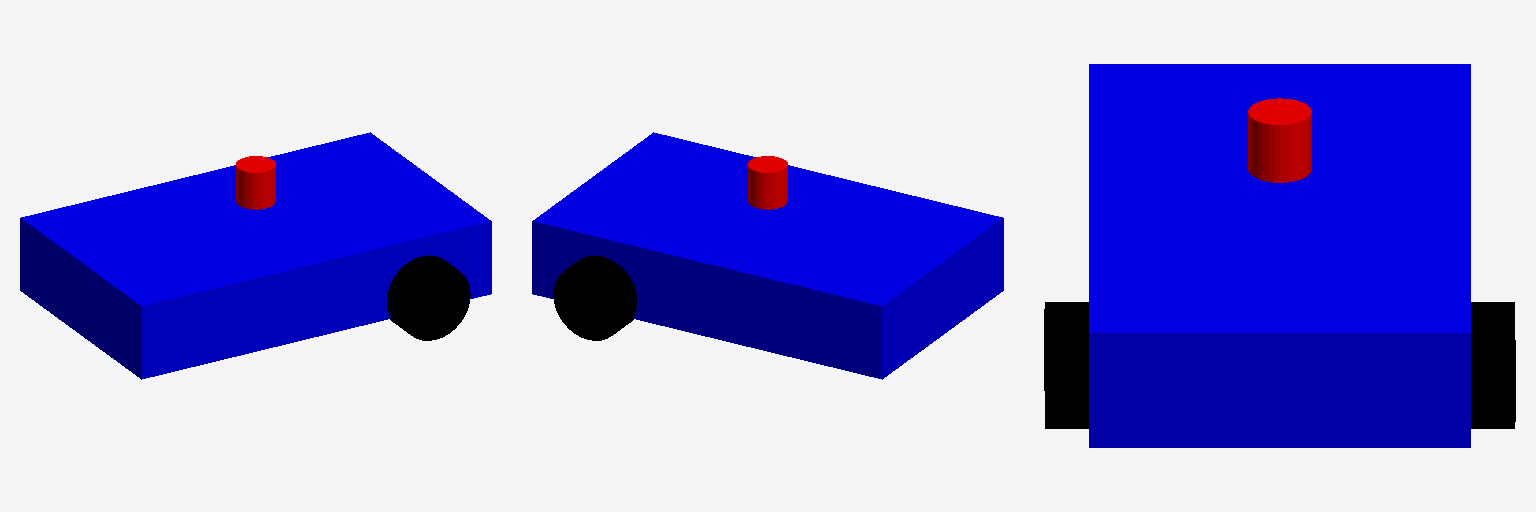
robot.urdf — robot:
<?xml version="1.0"?>
<robot name="robot">

    <!-- Dummy Link -->
    <link name="dummy_link"/>

    <!-- Base Link -->
    <link name="base_link">
        <inertial>
            <mass value="5.0"/>
            <inertia ixx="0.1" ixy="0.0" ixz="0.0" iyy="0.1" iyz="0.0" izz="0.1"/>
        </inertial>
        <visual>
            <geometry>
                <box size="0.5 0.3 0.1"/>
            </geometry>
            <material name="blue">
                <color rgba="0 0 1 1"/>
            </material>
        </visual>
        <collision>
            <geometry>
                <box size="0.5 0.3 0.1"/>
            </geometry>
        </collision>
    </link>

    <!-- Joint between the dummy link and the base link -->
    <joint name="base_to_dummy" type="fixed">
        <parent link="dummy_link"/>
        <child link="base_link"/>
        <origin xyz="0 0 0" rpy="0 0 0"/>
    </joint>

    <!-- Left Wheel -->
    <link name="left_wheel">
        <inertial>
            <mass value="0.5"/>
            <inertia ixx="0.01" ixy="0.0" ixz="0.0" iyy="0.01" iyz="0.0" izz="0.01"/>
        </inertial>
        <visual>
            <geometry>
                <cylinder length="0.05" radius="0.05"/>
            </geometry>
            <material name="black">
                <color rgba="0 0 0 1"/>
            </material>
        </visual>
        <collision>
            <geometry>
                <cylinder length="0.05" radius="0.05"/>
            </geometry>
        </collision>
    </link>

    <joint name="left_wheel_joint" type="continuous">
        <parent link="base_link"/>
        <child link="left_wheel"/>
        <origin xyz="0.15 0.16 -0.025" rpy="0 1.57 1.57"/>  
        <axis xyz="0 0 1"/>  
    </joint>

    <!-- Right Wheel -->
    <link name="right_wheel">
        <inertial>
            <mass value="0.5"/>
            <inertia ixx="0.01" ixy="0.0" ixz="0.0" iyy="0.01" iyz="0.0" izz="0.01"/>
        </inertial>
        <visual>
            <geometry>
                <cylinder length="0.05" radius="0.05"/>
            </geometry>
            <material name="black">
                <color rgba="0 0 0 1"/>
            </material>
        </visual>
        <collision>
            <geometry>
                <cylinder length="0.05" radius="0.05"/>
            </geometry>
        </collision>
    </link>

    <joint name="right_wheel_joint" type="continuous">
        <parent link="base_link"/>
        <child link="right_wheel"/>
        <origin xyz="0.15 -0.16 -0.025" rpy="0 1.57 1.57"/>  
        <axis xyz="0 0 1"/>  
    </joint>

    <!-- Caster Wheel -->
    <link name="caster_wheel">
        <inertial>
            <mass value="0.1"/>
            <inertia ixx="0.001" ixy="0.0" ixz="0.0" iyy="0.001" iyz="0.0" izz="0.001"/>
        </inertial>
        <visual>
            <geometry>
                <sphere radius="0.03"/>
            </geometry>
            <material name="grey">
                <color rgba="0.5 0.5 0.5 1"/>
            </material>
        </visual>
        <collision>
            <geometry>
                <sphere radius="0.03"/>
            </geometry>
        </collision>
    </link>

    <joint name="caster_joint" type="fixed">
        <parent link="base_link"/>
        <child link="caster_wheel"/>
        <origin xyz="-0.2 0 -0.05" rpy="0 0 0"/>
    </joint>

    <!-- LiDAR Sensor -->
    <link name="lidar">
        <inertial>
            <mass value="0.1"/>
            <inertia ixx="0.001" ixy="0.0" ixz="0.0" iyy="0.001" iyz="0.0" izz="0.001"/>
        </inertial>
        <visual>
            <geometry>
                <cylinder length="0.05" radius="0.025"/>
            </geometry>
            <material name="red">
                <color rgba="1 0 0 1"/>
            </material>
        </visual>
        <collision>
            <geometry>
                <cylinder length="0.05" radius="0.025"/>
            </geometry>
        </collision>
    </link>

    <joint name="lidar_joint" type="fixed">
        <parent link="base_link"/>
        <child link="lidar"/>
        <origin xyz="0 0 0.1" rpy="0 0 0"/>
    </joint>

    <!-- LiDAR Sensor Plugin -->
    <gazebo reference="lidar">
        <sensor type="ray" name="lidar_sensor">
            <pose>0 0 0 0 0 0</pose>
            <visualize>true</visualize>
            <update_rate>20</update_rate>
            <ray>
                <scan>
                    <horizontal>
                        <samples>720</samples>
                        <resolution>1</resolution>
                        <min_angle>-3.14159</min_angle>  <!-- -90 degrees -->
                        <max_angle>3.14159</max_angle>   <!-- 90 degrees -->
                    </horizontal>
                </scan>
                <range>
                    <min>0.1</min>
                    <max>10.0</max>
                    <resolution>0.01</resolution>
                </range>
                <noise>
                    <type>gaussian</type>
                    <mean>0.0</mean>
                    <stddev>0.01</stddev>
                </noise>
            </ray>
            <plugin name="gazebo_ros_lidar_plugin" filename="libgazebo_ros_laser.so">
                <topicName>/scan</topicName>
                <frameName>lidar</frameName>
            </plugin>
        </sensor>
    </gazebo>

    <gazebo reference="left_wheel">
        <material>Gazebo/Blue</material>
    </gazebo>

    <gazebo reference="right_wheel">
        <material>Gazebo/Blue</material>
    </gazebo>

    <!-- Differential Drive Plugin -->
    <gazebo>
        <plugin filename="libgazebo_ros_diff_drive.so" name="differential_drive_controller">
            <alwaysOn>true</alwaysOn>
            <updateRate>20</updateRate>
            <leftJoint>left_wheel_joint</leftJoint>
            <rightJoint>right_wheel_joint</rightJoint>
            <wheelSeparation>0.4</wheelSeparation>
            <wheelDiameter>0.2</wheelDiameter>
            <torque>0.1</torque>
            <commandTopic>cmd_vel</commandTopic>
            <odometryTopic>odom</odometryTopic>
            <odometryFrame>odom</odometryFrame>
            <robotBaseFrame>base_link</robotBaseFrame>
        </plugin>
    </gazebo>

</robot>

--- Render facts (derived) ---
Views: 3 orthographic renders of the robot side by side, from view 1: azimuth 30°, elevation 25°; view 2: azimuth 150°, elevation 25°; view 3: azimuth 270°, elevation 25°.
Model robot with 6 links and 5 joints (2 continuous, 3 fixed), rooted at dummy_link, posed every joint at zero.
Links seen in each view (by area): view 1: base_link, right_wheel, lidar; view 2: base_link, left_wheel, lidar; view 3: base_link, left_wheel, right_wheel, lidar.
Boxes of the visible links, x1=… form: base_link: x1=20, y1=132, x2=491, y2=379; right_wheel: x1=387, y1=255, x2=470, y2=340; lidar: x1=236, y1=156, x2=275, y2=209; base_link: x1=532, y1=132, x2=1003, y2=379; left_wheel: x1=553, y1=255, x2=636, y2=340; lidar: x1=748, y1=156, x2=787, y2=209; base_link: x1=1089, y1=64, x2=1470, y2=447; left_wheel: x1=1471, y1=302, x2=1515, y2=428; right_wheel: x1=1044, y1=302, x2=1088, y2=428; lidar: x1=1248, y1=98, x2=1311, y2=182.
Size in the robot's own frame: 0.5 by 0.3701 by 0.205 metres.
Geometry: primitives only (box / cylinder / sphere), no mesh files.
